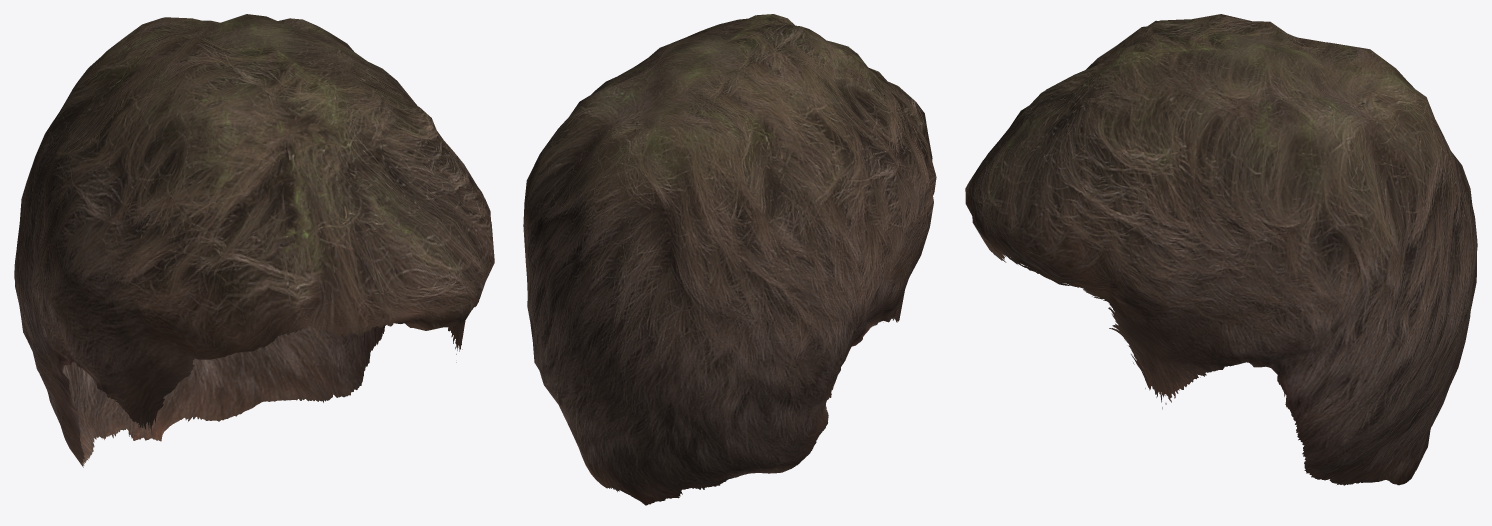
File: mh_short02.glb
3 renders of one model, left to right at view 1: azimuth 30°, elevation 25°; view 2: azimuth 150°, elevation 25°; view 3: azimuth 270°, elevation 25°, orthographic. The views are drawn at different scales.
Parts seen in each view (by area): view 1: mh_short02; view 2: mh_short02; view 3: mh_short02.
Part boxes in pixels (x1,y1,x2,y2): mh_short02: (14,14,494,467); mh_short02: (523,14,936,505); mh_short02: (965,14,1477,485).
Size of the model in its own units: 0.1832 by 0.217 by 0.2291.
Materials: 1 (1 with a texture image).
